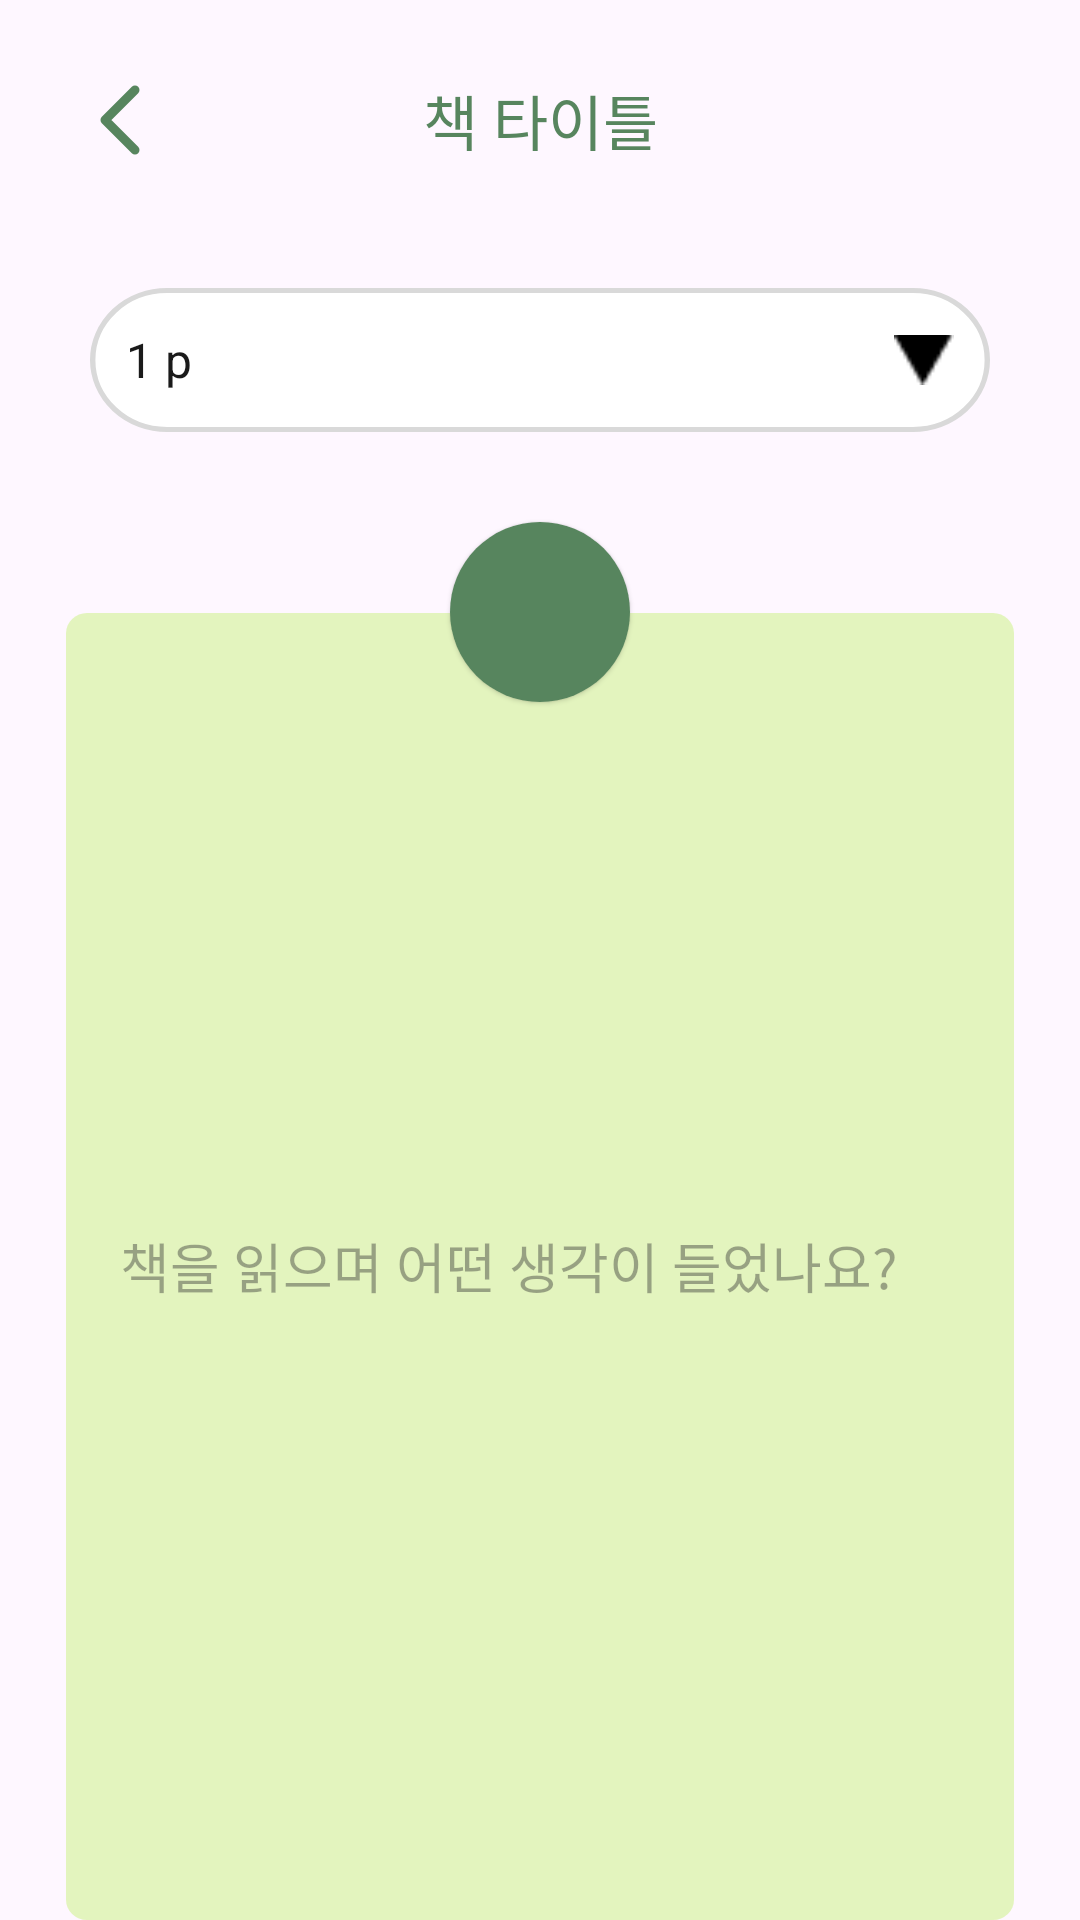

Where icons sit on this 1080 × 1920 app screen, as (x1, y1, x2, y2):
allow left: (100, 85, 140, 155)
arrow down: (894, 335, 954, 385)
